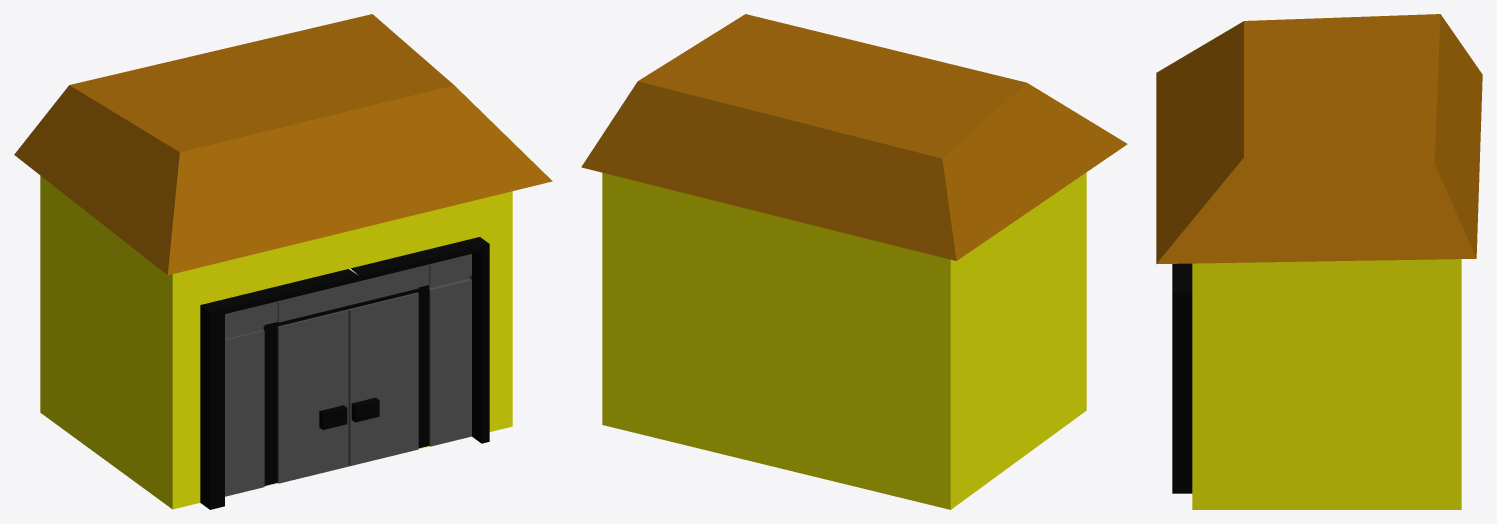
The model's file is Mercado.fbx.
The picture shows the model from 3 angles, left to right: view 1: azimuth 30°, elevation 25°; view 2: azimuth 150°, elevation 25°; view 3: azimuth 270°, elevation 25°; orthographic projection. The views are drawn at different scales.
Visible parts, largest first — view 1: Mercado; view 2: Mercado; view 3: Mercado.
Part boxes in pixels (bbox=[...]): Mercado: bbox=[14, 14, 552, 509]; Mercado: bbox=[581, 14, 1127, 509]; Mercado: bbox=[1156, 14, 1482, 509].
Size of the model in its own units: 1355 by 1111 by 977.
